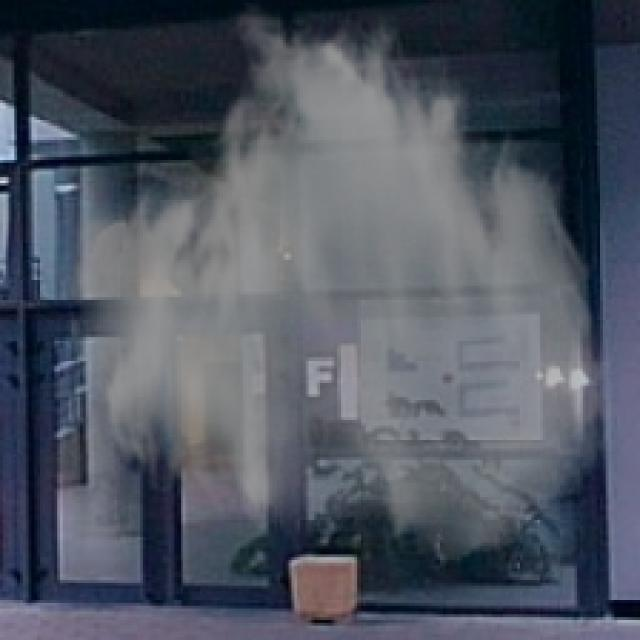Smoke: (63, 0, 620, 566)
